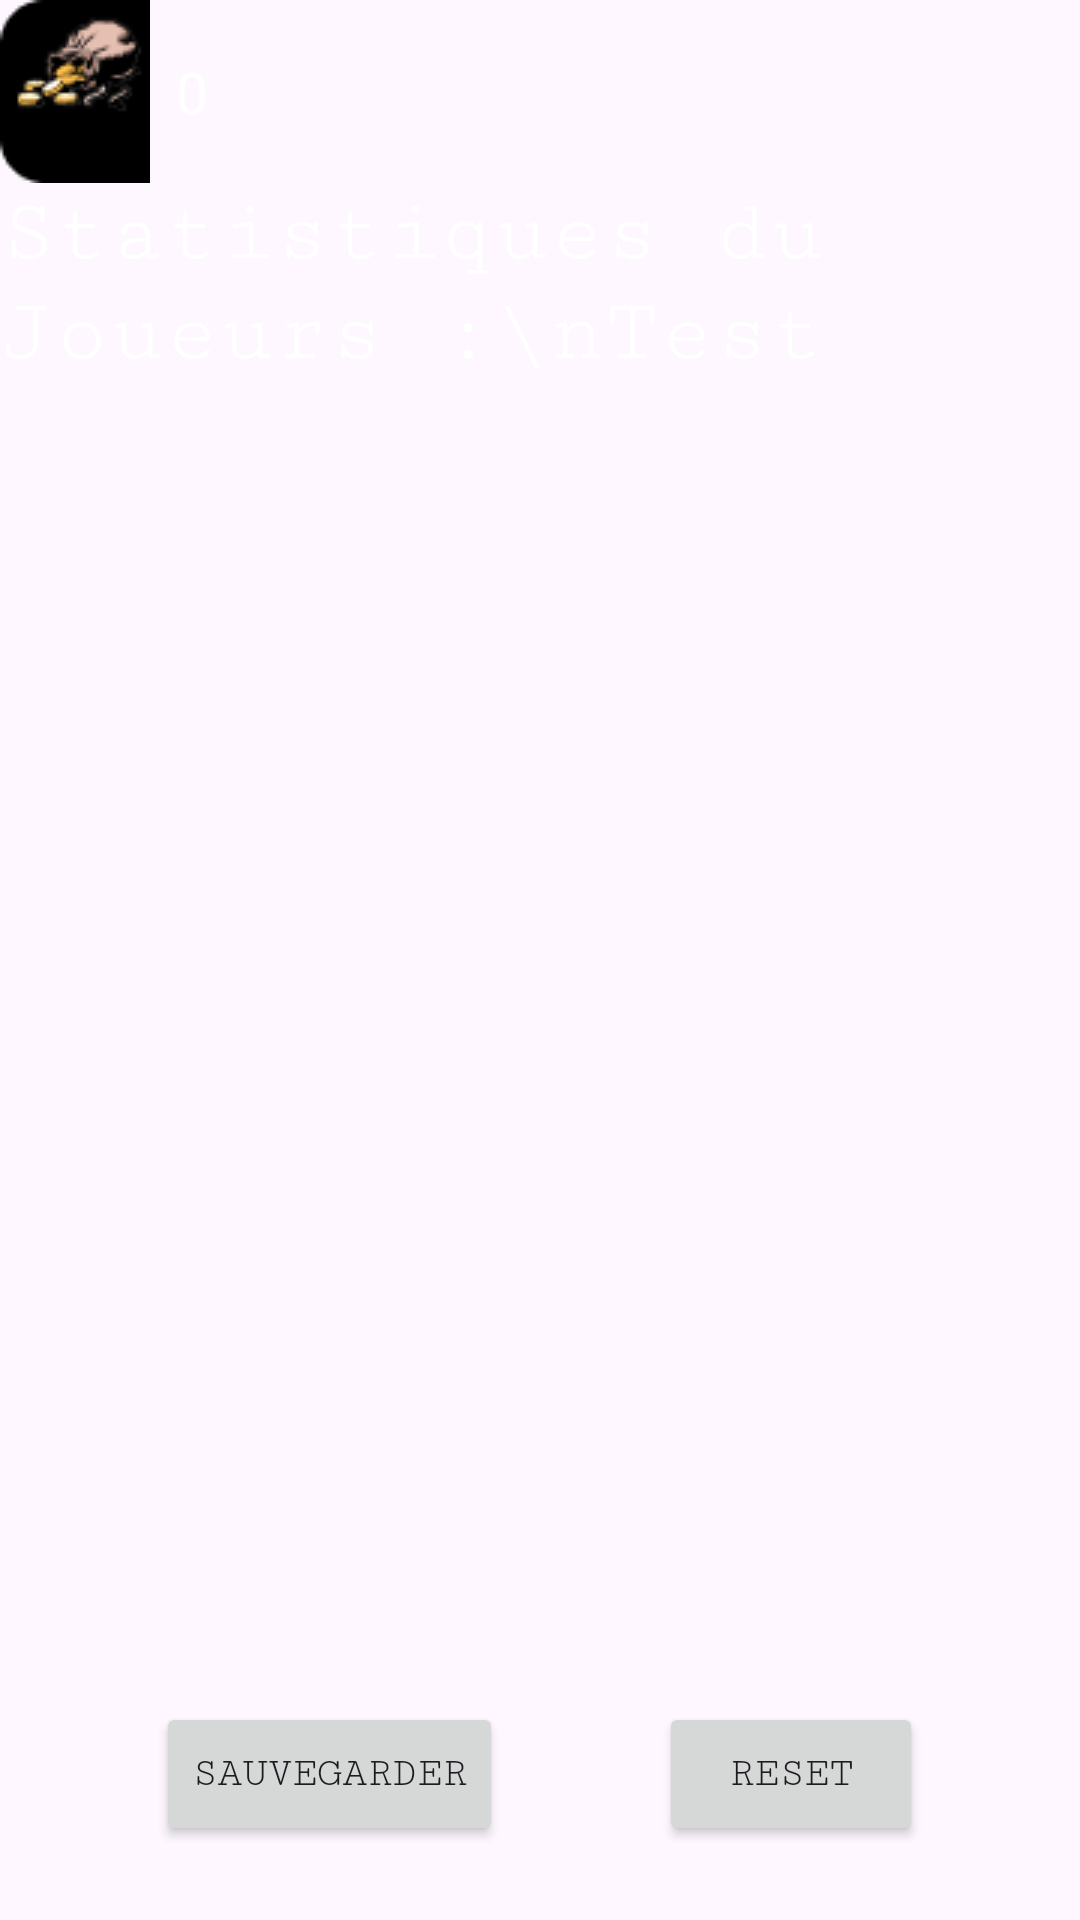

Where icons sit on this 1080 × 1920 app screen, as (x1, y1, x2, y2):
bourse set: (0, 0, 150, 183)
